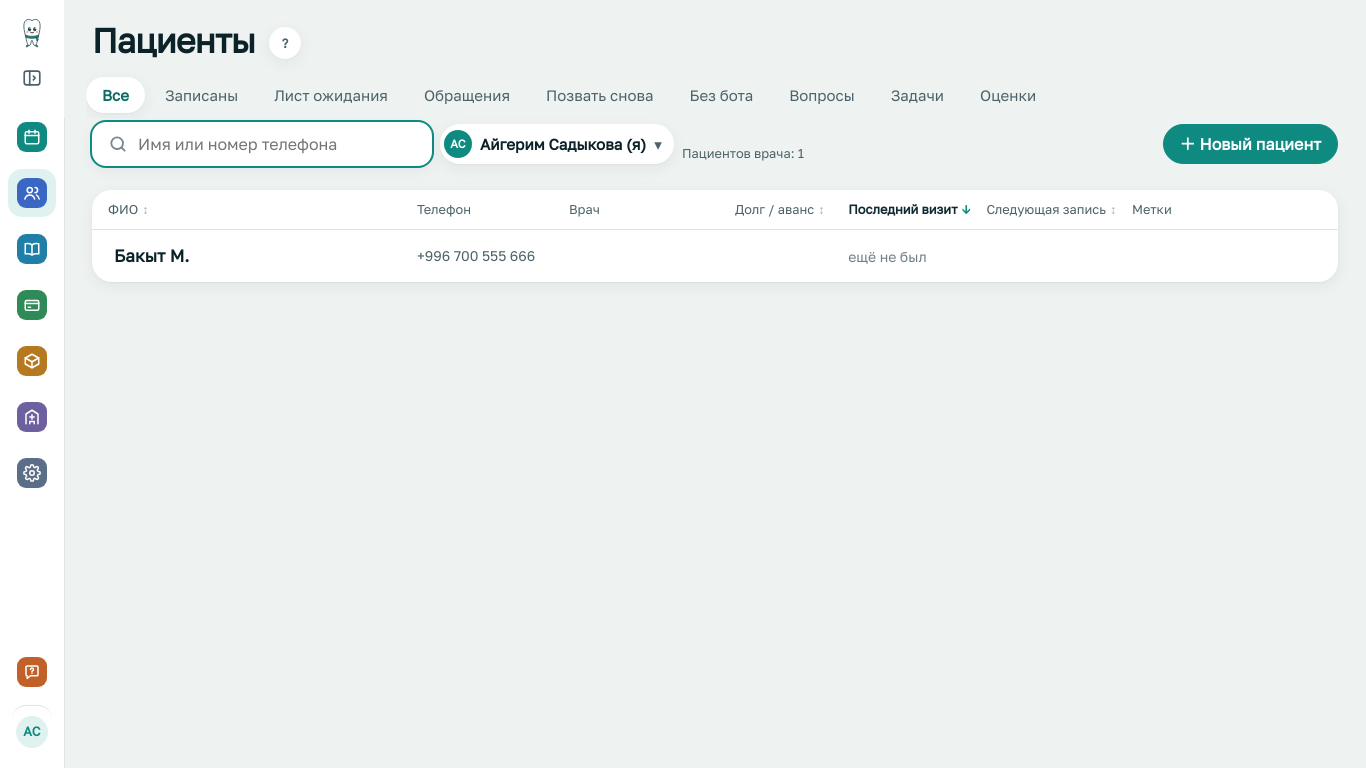
Scenario: карточка пациента: «откуда узнал» — во вкладке «Прочее», не в шапке; выбирается одним нажатием
Click the button "Бакыт М.": click(152, 256) [114,243,189,269]
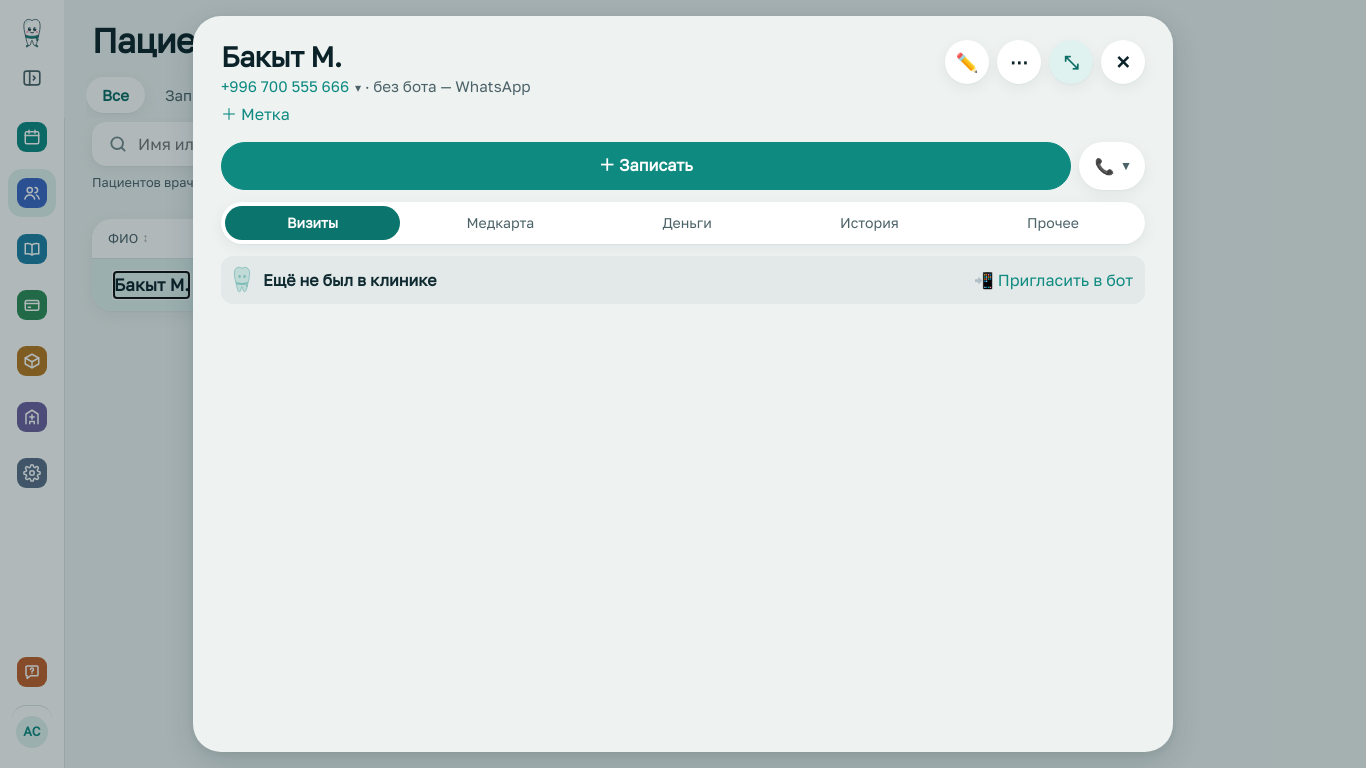
Expected: the element "Откуда узнал о клинике" is not shown
Expected: the tab "Прочее" is shown
Click the tab "Прочее": click(1053, 223) [965,206,1141,240]
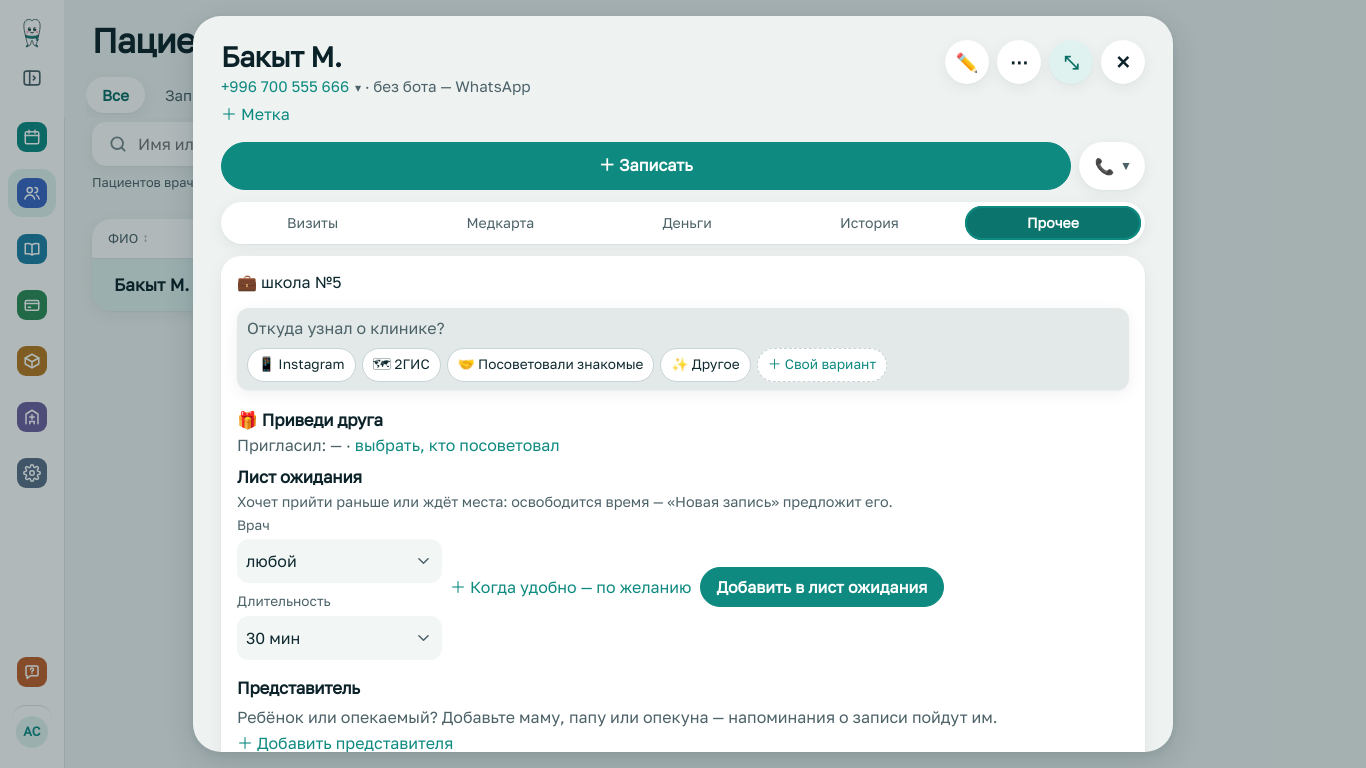
Expected: the element "Откуда узнал о клинике" shows "Откуда узнал о клинике?", [247,318,436,338]
Click the button "📱 Instagram": click(301, 365) [247,348,356,382]
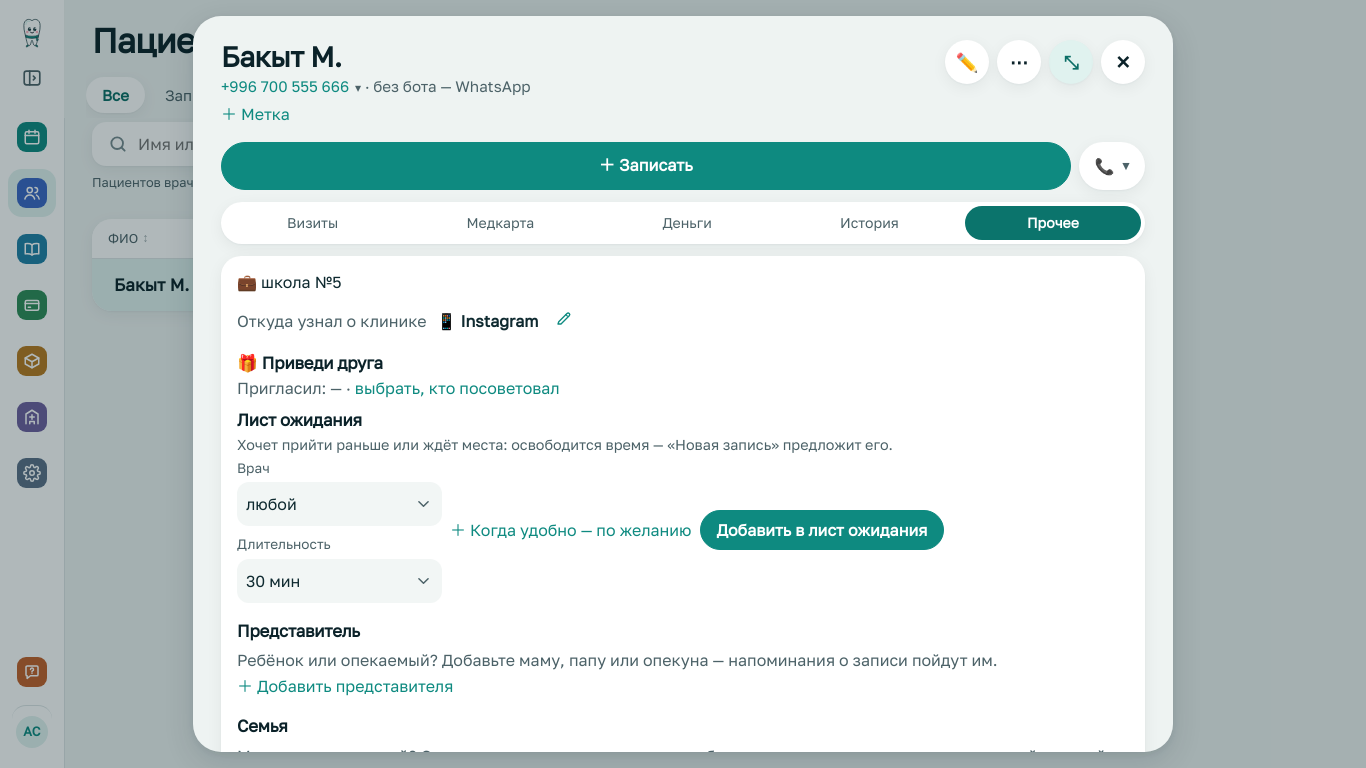
Expected: the element "Откуда узнал о клинике" shows "📱 Instagram", [436,311,538,331]
Expected: the button named "Изменить, откуда узнал" is shown, [548,302,580,334]
